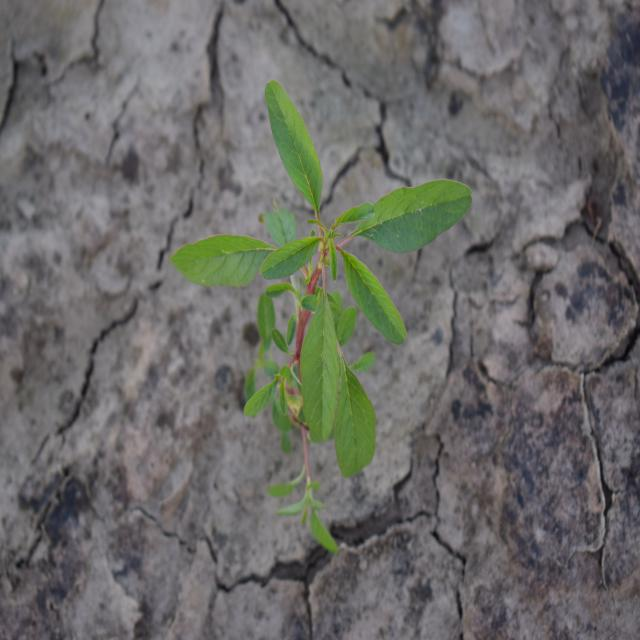Waterhemp: (170, 76, 475, 556)
